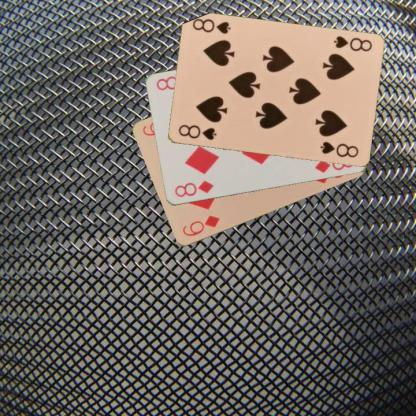6d: (179, 213, 221, 238)
8d: (172, 178, 214, 199)
8s: (176, 122, 218, 141), (331, 34, 373, 53)
